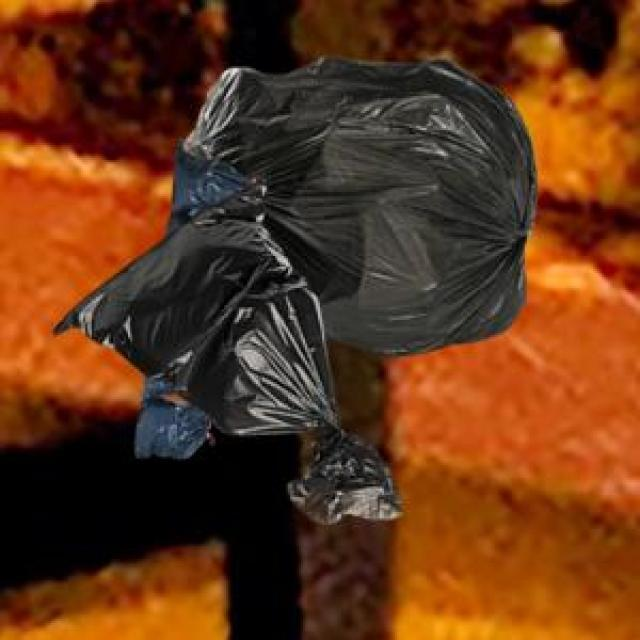Trashbag: (82, 200, 344, 452), (330, 61, 536, 364)
